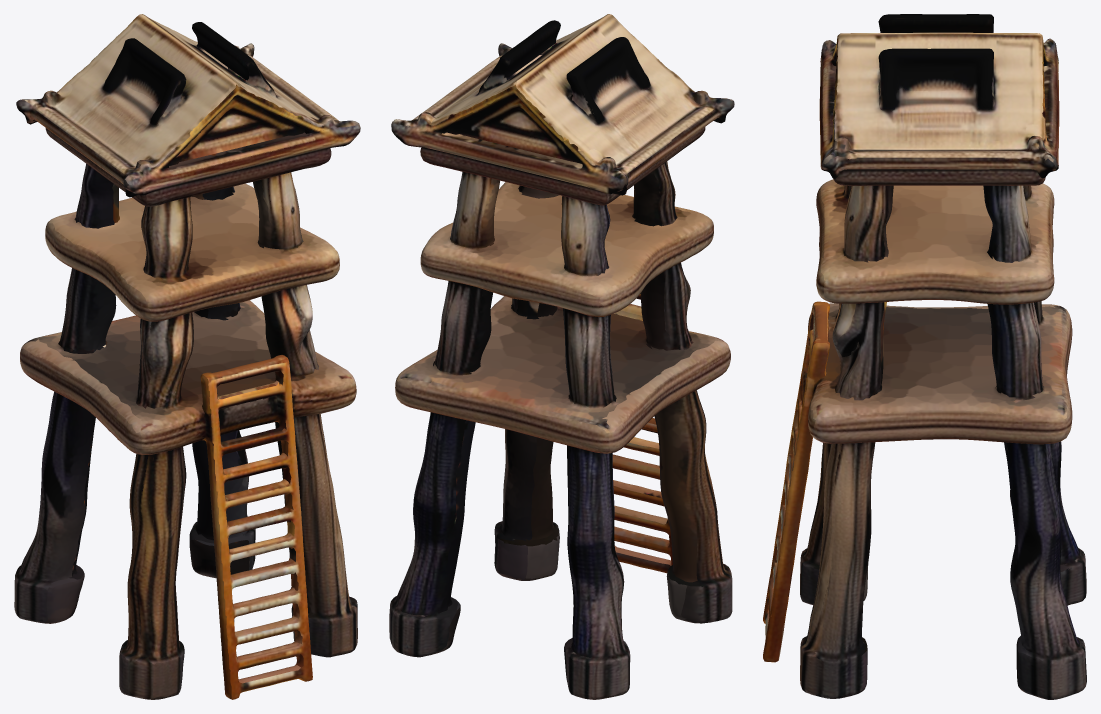
The model's file is torre_vigia.glb.
The picture shows the model from 3 angles, left to right: view 1: azimuth 30°, elevation 25°; view 2: azimuth 150°, elevation 25°; view 3: azimuth 270°, elevation 25°; orthographic projection. The views are drawn at different scales.
Parts seen in each view (by area): view 1: tmpdtb4ifqz.ply; view 2: tmpdtb4ifqz.ply; view 3: tmpdtb4ifqz.ply.
Boxes of the visible parts, x1,y1,x2,y2 form: tmpdtb4ifqz.ply: (14, 14, 360, 699); tmpdtb4ifqz.ply: (389, 14, 734, 699); tmpdtb4ifqz.ply: (763, 14, 1086, 699).
Size of the model in its own units: 0.4227 by 0.9917 by 0.477.
1 material, 1 textured.
